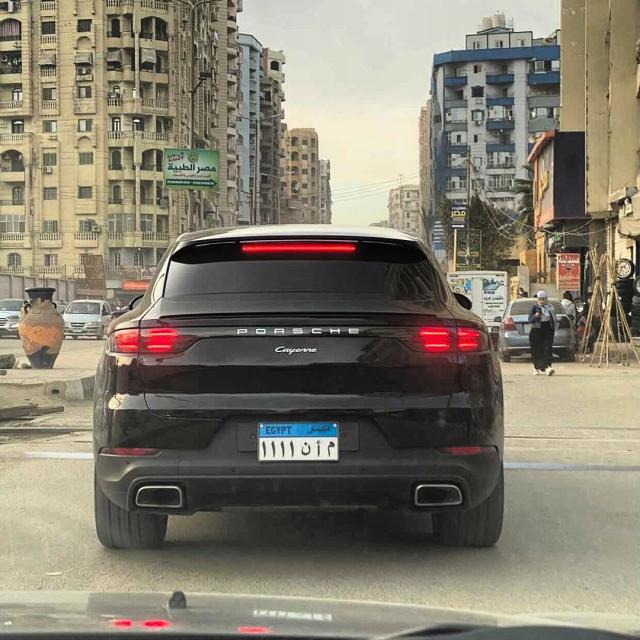License Plate: (255, 419, 342, 464)
